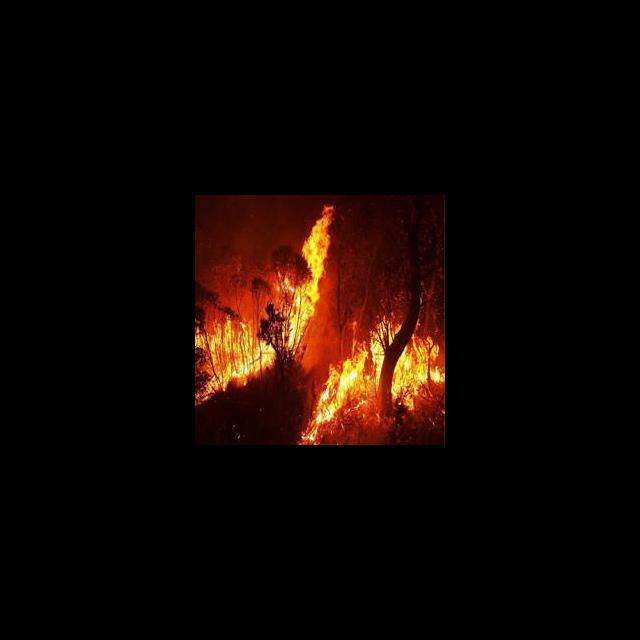Fire: (195, 202, 334, 408), (299, 319, 444, 444)
